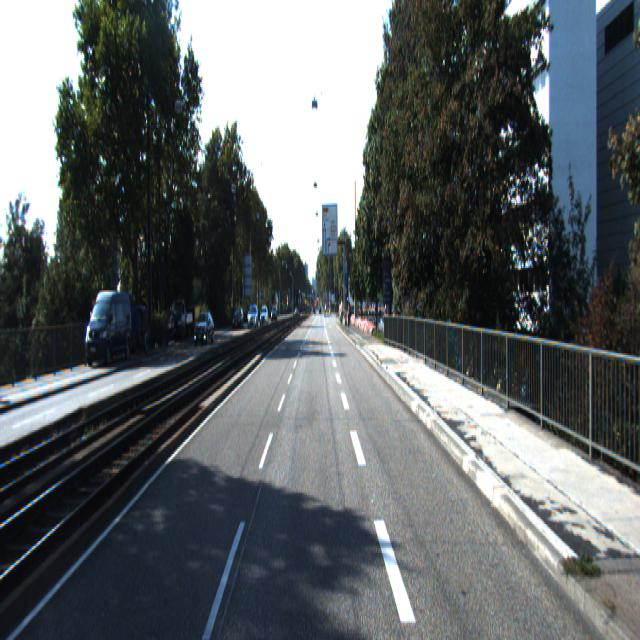Car: (85, 288, 133, 368), (130, 303, 152, 356), (168, 298, 194, 342), (193, 311, 216, 348)
